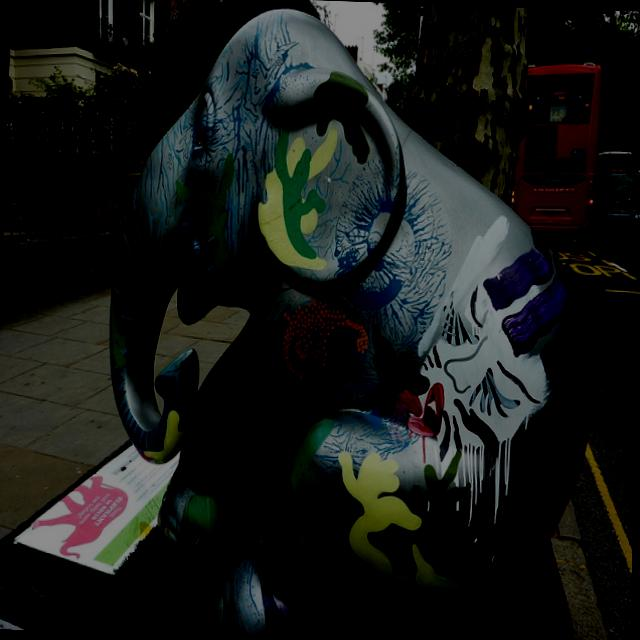Vehicle: (514, 60, 602, 232), (590, 170, 640, 239)
